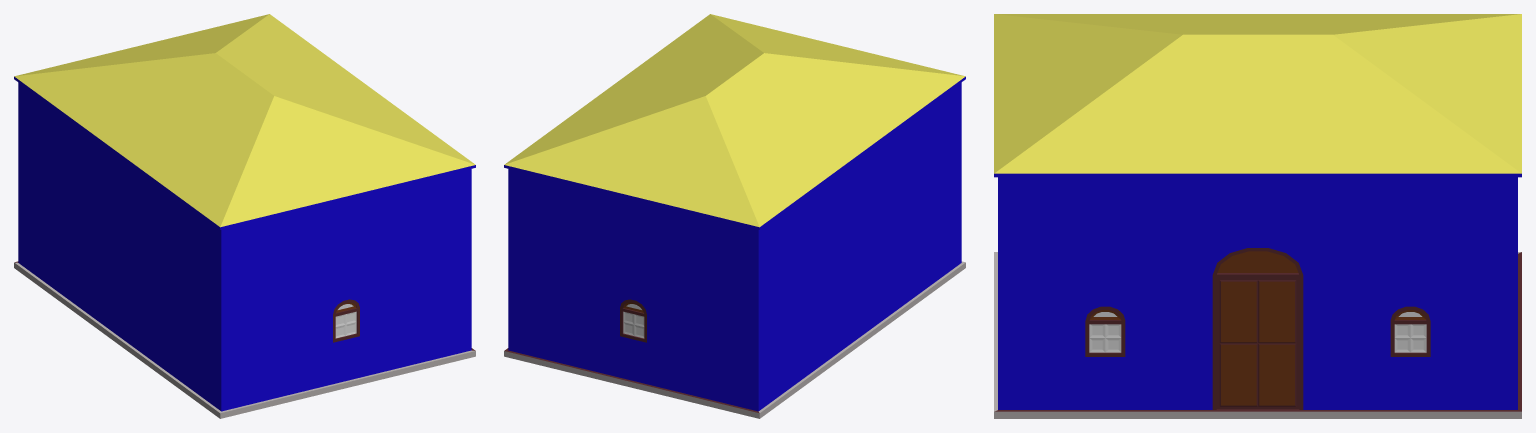
3 views of the same model, side by side, from view 1: azimuth 30°, elevation 25°; view 2: azimuth 150°, elevation 25°; view 3: azimuth 270°, elevation 25° (orthographic). The views are drawn at different scales.
Visible parts, largest first — view 1: building_001; view 2: building_001; view 3: building_001.
Boxes of the visible parts, <box> form: building_001: <box>14,14,475,418</box>; building_001: <box>504,14,965,418</box>; building_001: <box>994,14,1521,418</box>.
Bounding box in the file's own units: 945 × 840 × 1320.
